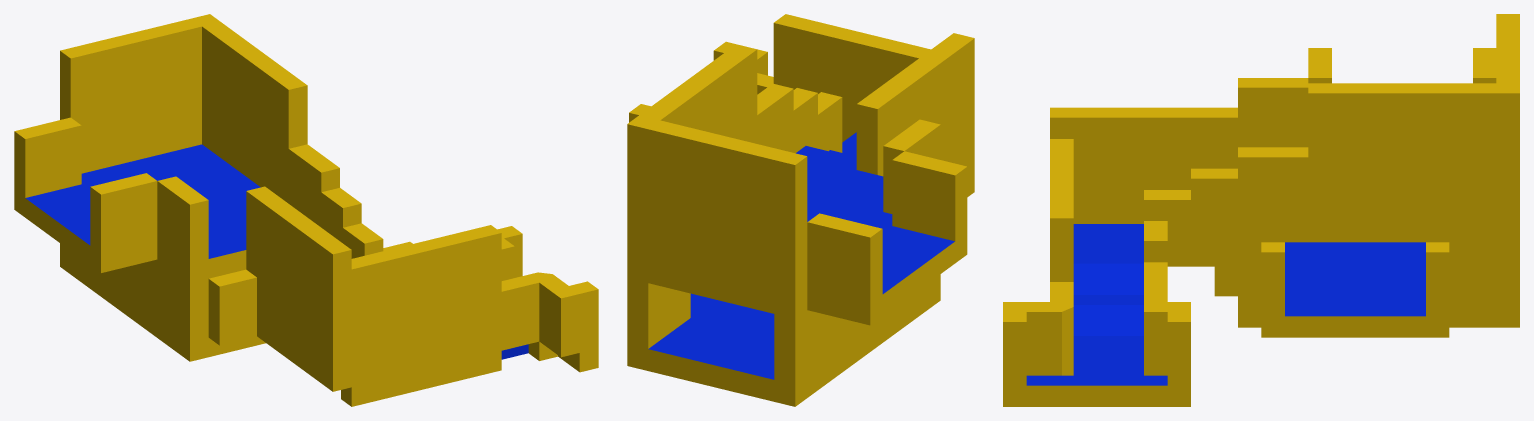
Rendered from Escaliers.fbx.
3 views of the same model, side by side, from view 1: azimuth 30°, elevation 25°; view 2: azimuth 150°, elevation 25°; view 3: azimuth 270°, elevation 25° (orthographic). The views are drawn at different scales.
Parts seen in each view (by area): view 1: pCube72, pCube82, pCube71, pCube77, pCube81, pCube67, pCube78, pCube8, pCube76, pCube3, pCube85, pCube87 (+6 smaller); view 2: pCube82, pCube77, pCube1, pCube71, pCube72, pCube67, pCube81, pCube8, pCube7, pCube78, pCube95, pCube94 (+3 smaller); view 3: pCube81, pCube71, pCube67, pCube7, pCube2, pCube83, pCube1, pCube82, pCube95, pCube72, pCube14, pCube15 (+14 smaller).
Part boxes in pixels (box(x1,y1,x2,y2)): pCube72: box(341, 225, 501, 406); pCube82: box(60, 14, 220, 173); pCube71: box(246, 186, 351, 391); pCube77: box(14, 117, 157, 272); pCube81: box(202, 22, 307, 203); pCube67: box(157, 144, 339, 282); pCube78: box(81, 144, 260, 226); pCube8: box(92, 259, 178, 353); pCube76: box(208, 269, 256, 345); pCube3: box(179, 275, 265, 361); pCube85: box(539, 278, 579, 357); pCube87: box(501, 274, 539, 350); pCube82: box(627, 115, 807, 318); pCube77: box(807, 151, 967, 325); pCube1: box(627, 278, 831, 406); pCube71: box(856, 33, 974, 197); pCube72: box(773, 14, 930, 142); pCube67: box(757, 83, 940, 213); pCube81: box(639, 44, 757, 143); pCube8: box(831, 283, 928, 379); pCube7: box(685, 294, 774, 344); pCube78: box(807, 193, 892, 232); pCube95: box(793, 88, 817, 153); pCube94: box(818, 92, 842, 152); pCube81: box(1308, 83, 1496, 242); pCube71: box(1050, 107, 1237, 266); pCube67: box(1238, 78, 1308, 242); pCube7: box(1285, 242, 1425, 306); pCube2: box(1261, 242, 1449, 337); pCube83: box(1003, 312, 1190, 406); pCube1: box(1449, 242, 1519, 327); pCube82: box(1496, 14, 1519, 242); pCube95: box(1191, 168, 1237, 242); pCube72: box(1050, 139, 1073, 281); pCube14: box(1073, 253, 1143, 294); pCube15: box(1073, 295, 1143, 335).
Size of the model in its own units: 19 by 11 by 22.
